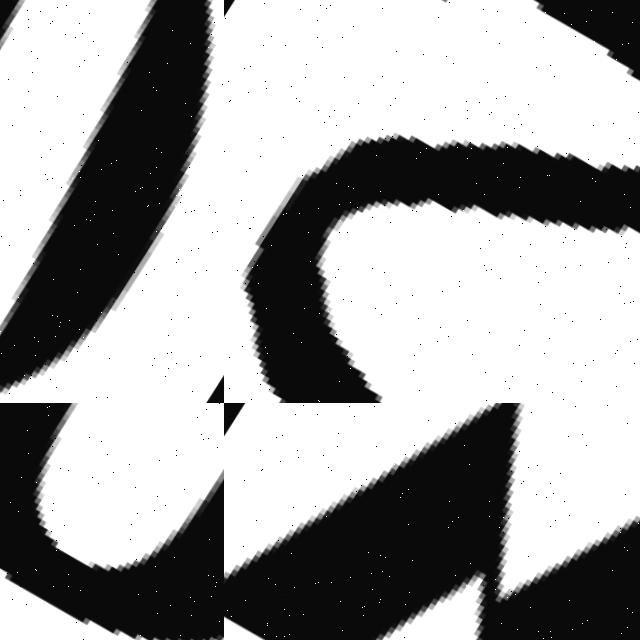O: (0, 403, 224, 640)
S: (224, 0, 640, 403)
W: (224, 403, 640, 640)
